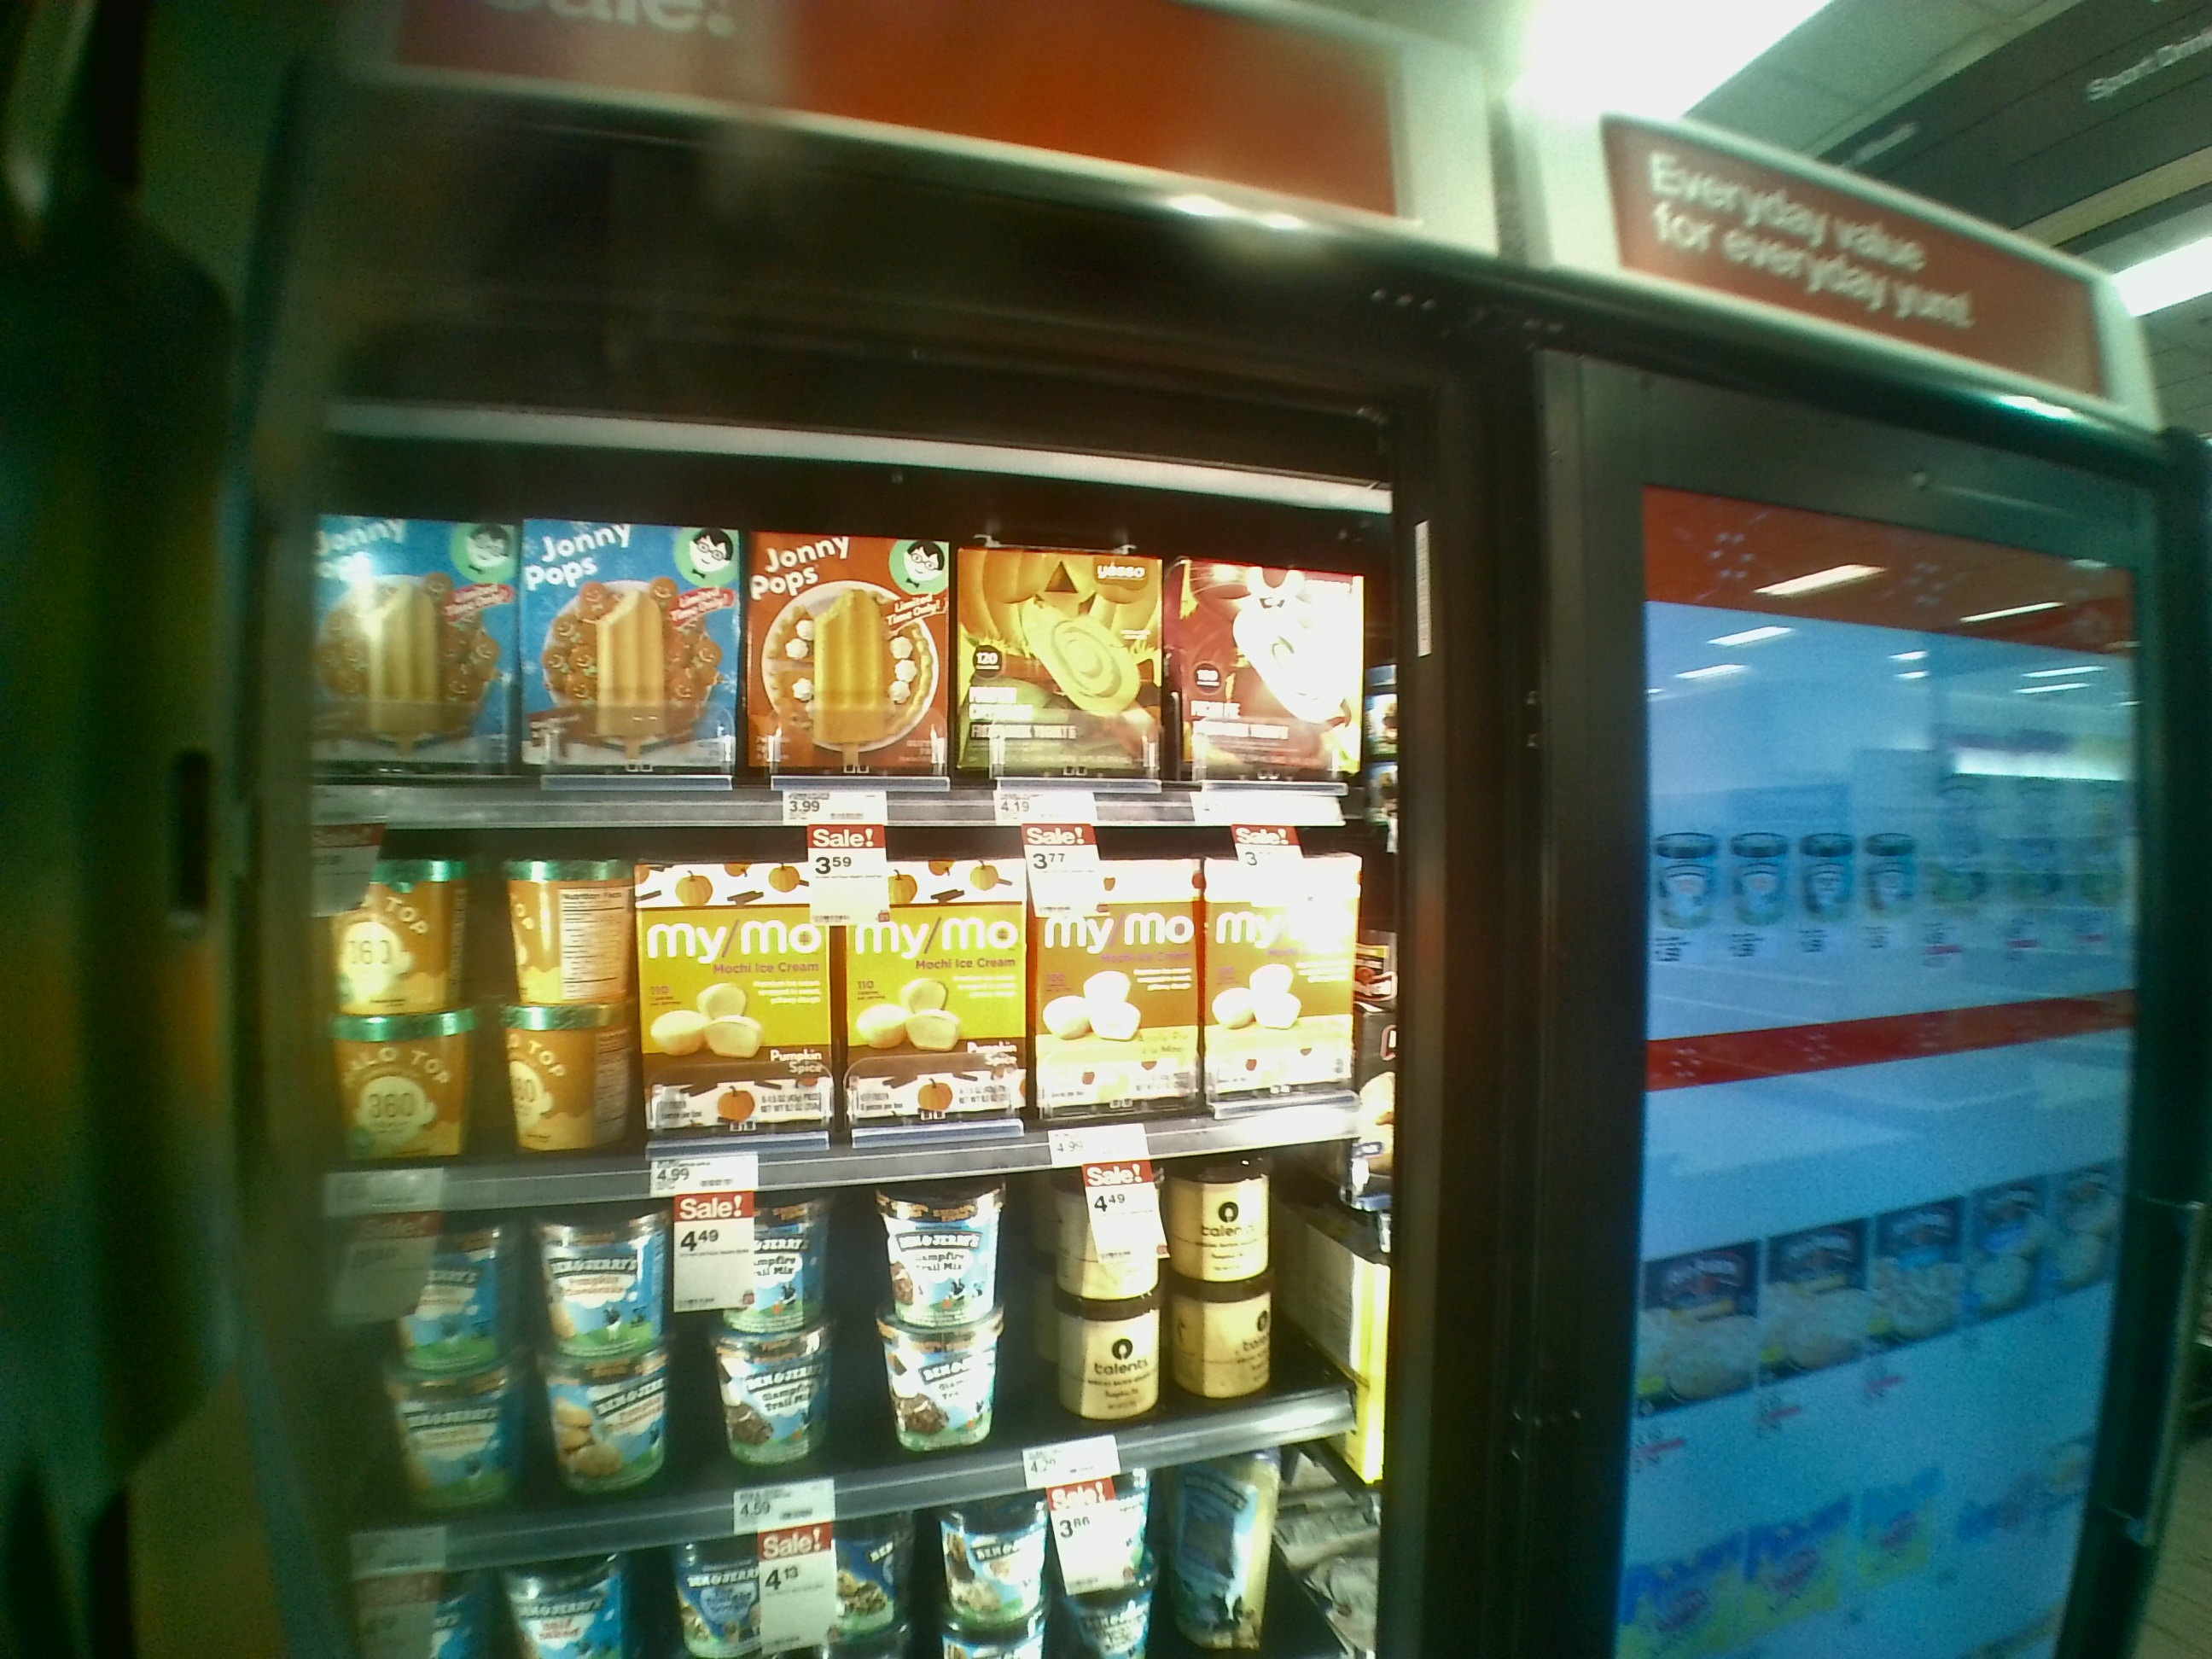shelf: (296, 453, 1388, 829), (317, 1187, 1364, 1546), (301, 817, 1379, 1148)
